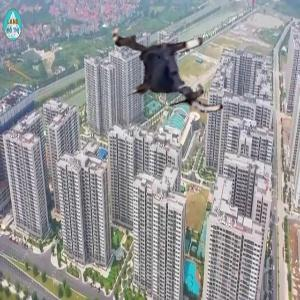drone: (101, 5, 232, 136)
